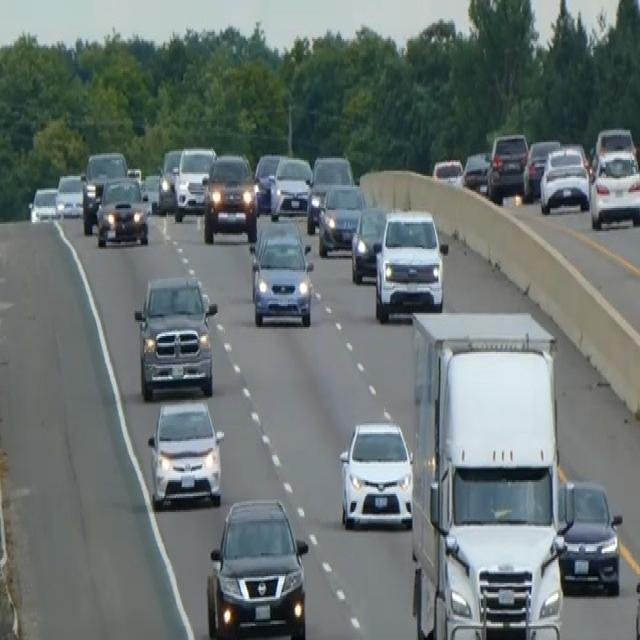car: (205, 494, 309, 638), (147, 396, 224, 508), (373, 206, 447, 322), (338, 418, 414, 530), (557, 476, 622, 596), (248, 219, 314, 327), (202, 150, 257, 243), (589, 146, 639, 229), (96, 174, 149, 247), (81, 149, 127, 233), (306, 153, 354, 233), (317, 181, 366, 256), (539, 144, 590, 213), (174, 144, 216, 219), (486, 130, 528, 201), (268, 153, 313, 219), (350, 202, 387, 282), (523, 137, 560, 199), (253, 151, 281, 213), (157, 146, 182, 212), (594, 124, 636, 160), (56, 170, 84, 218), (28, 185, 62, 224), (462, 149, 491, 194), (140, 171, 165, 213), (431, 156, 463, 185)
jeep: (132, 272, 218, 400)
lorry: (408, 308, 570, 638)
